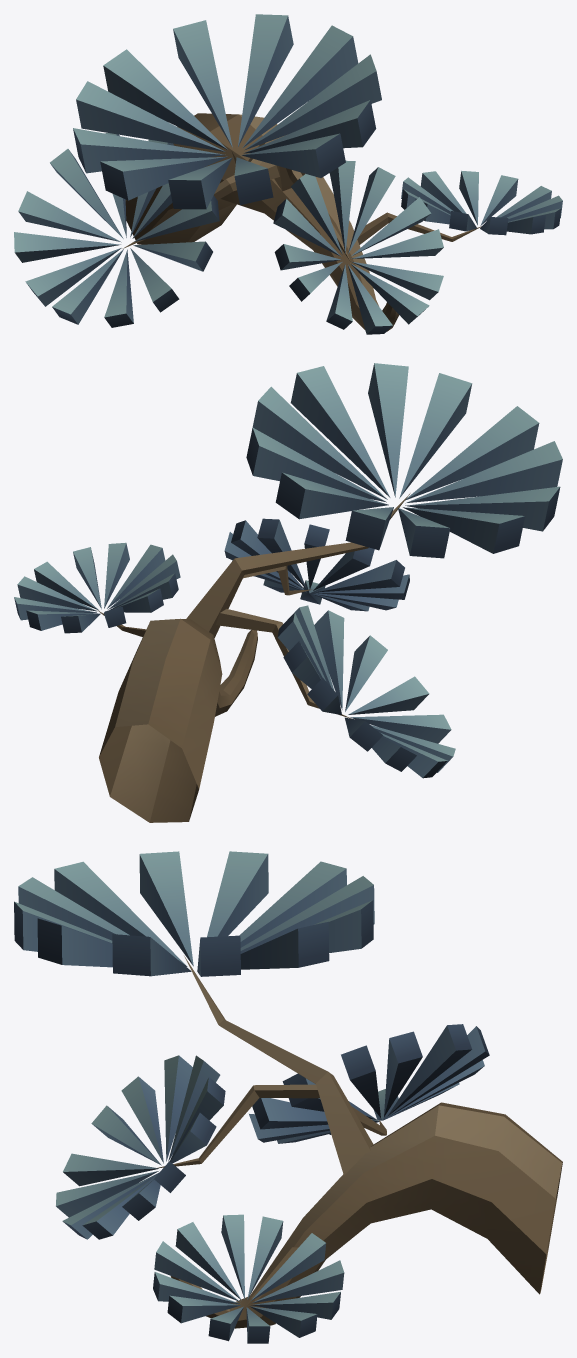
The model's file is branch_winter_1.001.glb.
The picture shows the model from 3 angles, top to bottom: view 1: azimuth 30°, elevation 25°; view 2: azimuth 150°, elevation 25°; view 3: azimuth 270°, elevation 25°; orthographic projection. The views are drawn at different scales.
Visible parts, largest first — view 1: branch_winter_1.001; view 2: branch_winter_1.001; view 3: branch_winter_1.001.
Part boxes in pixels (x1=…): branch_winter_1.001: x1=14, y1=14, x2=562, y2=334; branch_winter_1.001: x1=14, y1=363, x2=562, y2=822; branch_winter_1.001: x1=14, y1=851, x2=562, y2=1343.
Bounding box in the file's own units: 2.87 × 1.79 × 2.41.
Materials: 1 (1 with a texture image).
